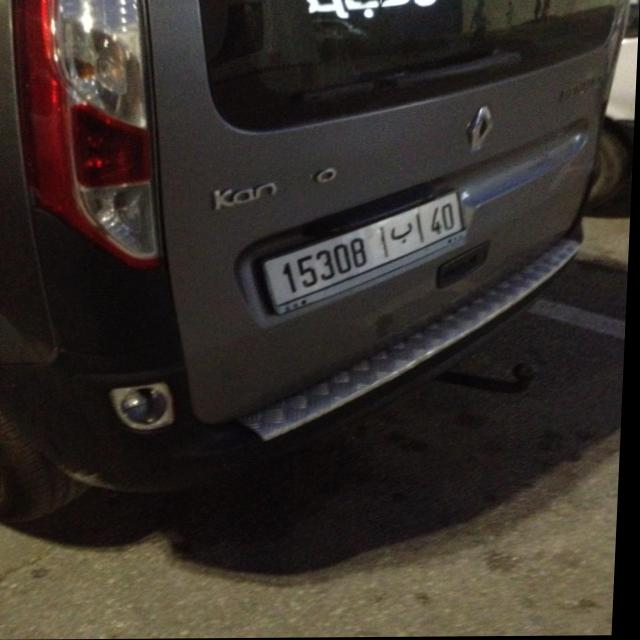License-Plate: (265, 192, 467, 313)
